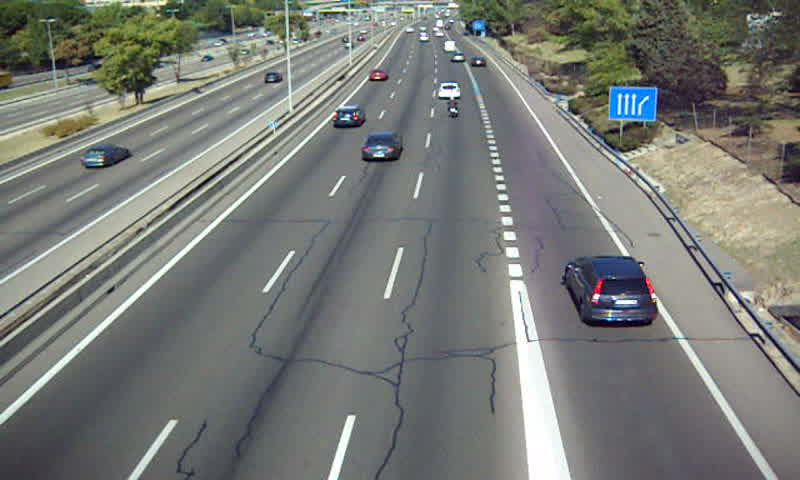car: (566, 255, 658, 322), (361, 133, 403, 162), (333, 106, 365, 129), (435, 82, 462, 100), (368, 70, 386, 84)
motorcycle: (444, 95, 462, 117)
